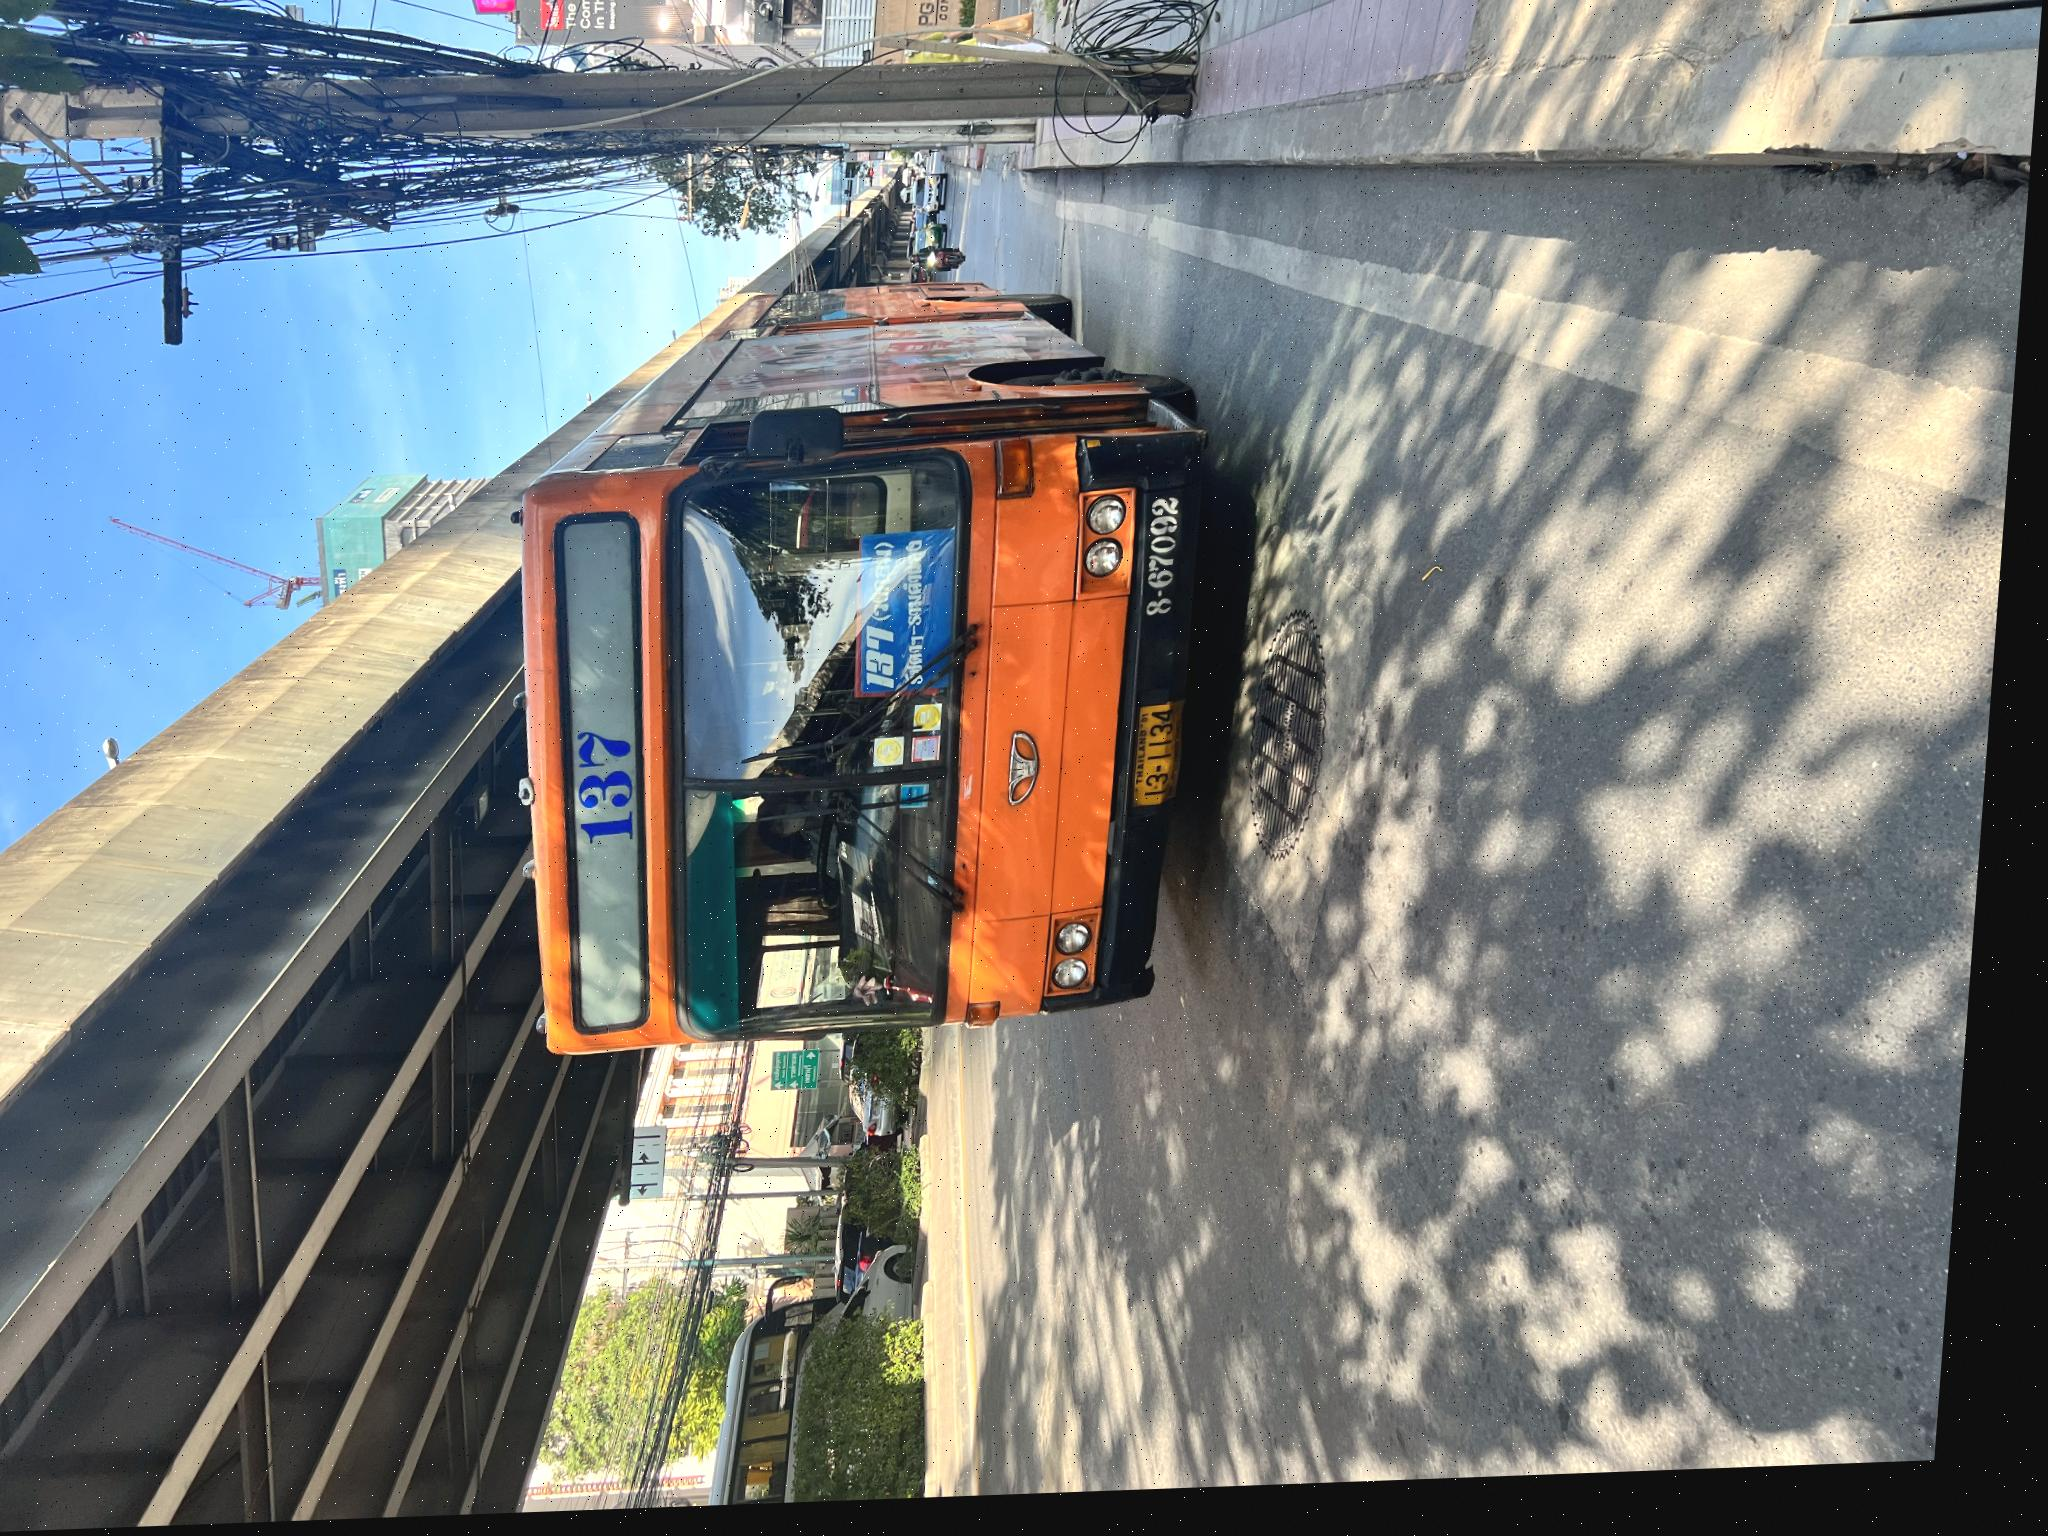BMTA-bus: (408, 532, 1168, 1244)
Bus Line Number: (610, 605, 758, 681)
Bus Side Number: (787, 1155, 934, 1205)
Destination Sign: (748, 868, 922, 968)
